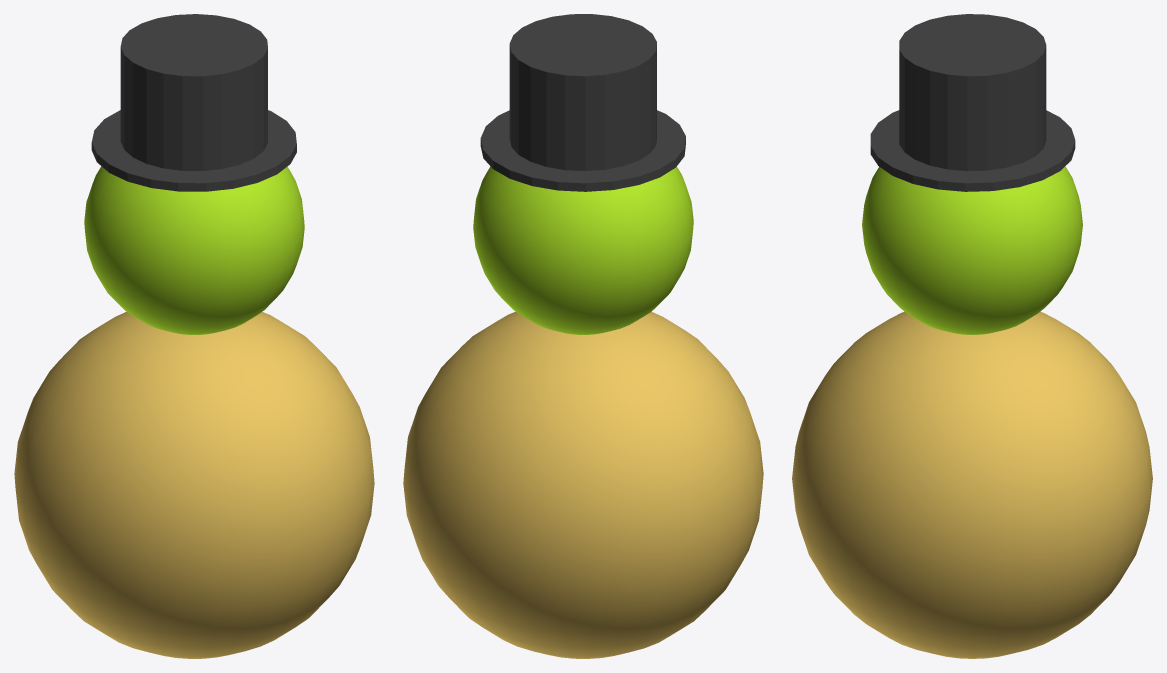
File: cika 2.fbx
3 views of the same model, side by side, from view 1: azimuth 30°, elevation 25°; view 2: azimuth 150°, elevation 25°; view 3: azimuth 270°, elevation 25° (orthographic).
Visible parts, largest first — view 1: Sphere; view 2: Sphere; view 3: Sphere.
Boxes of the visible parts, box(x1,y1,x2,y2) form: Sphere: box(14, 14, 374, 658); Sphere: box(403, 14, 763, 658); Sphere: box(792, 14, 1152, 658).
Bounding box in the file's own units: 183 × 334 × 183.
